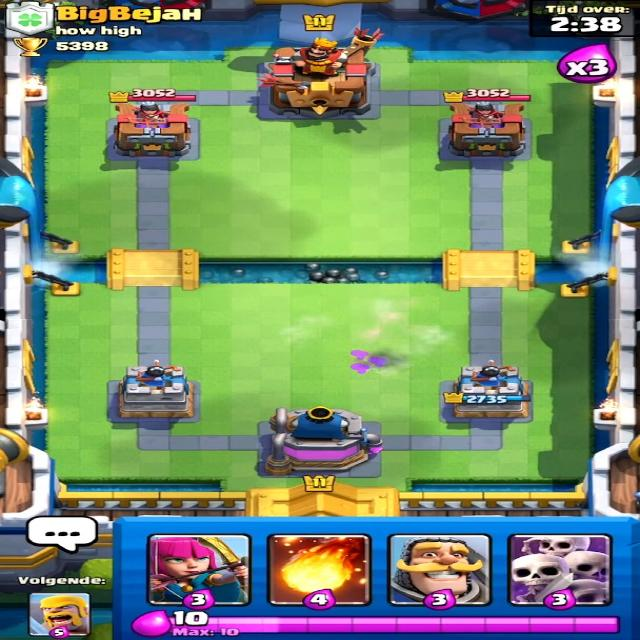Fireball_Card: (265, 529, 370, 603)
